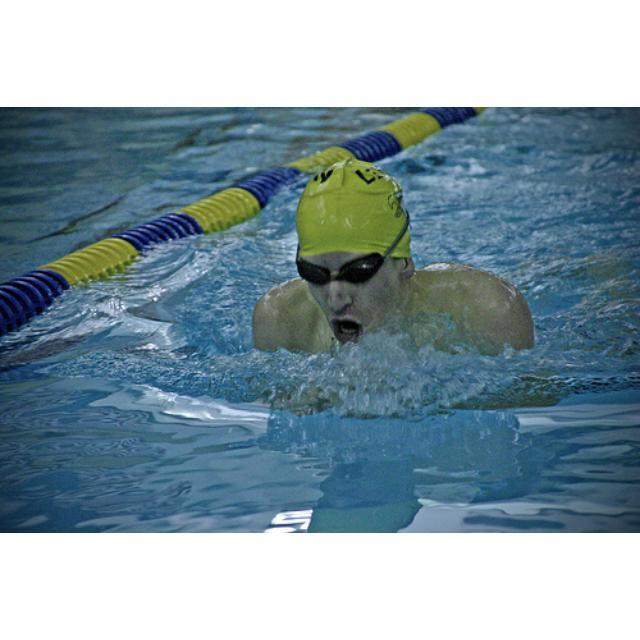human: (251, 157, 540, 366)
